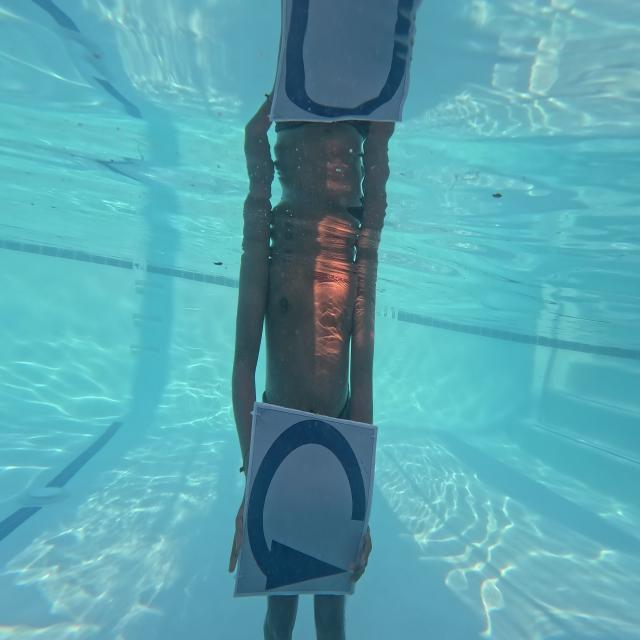blue_side: (245, 404, 374, 598)
